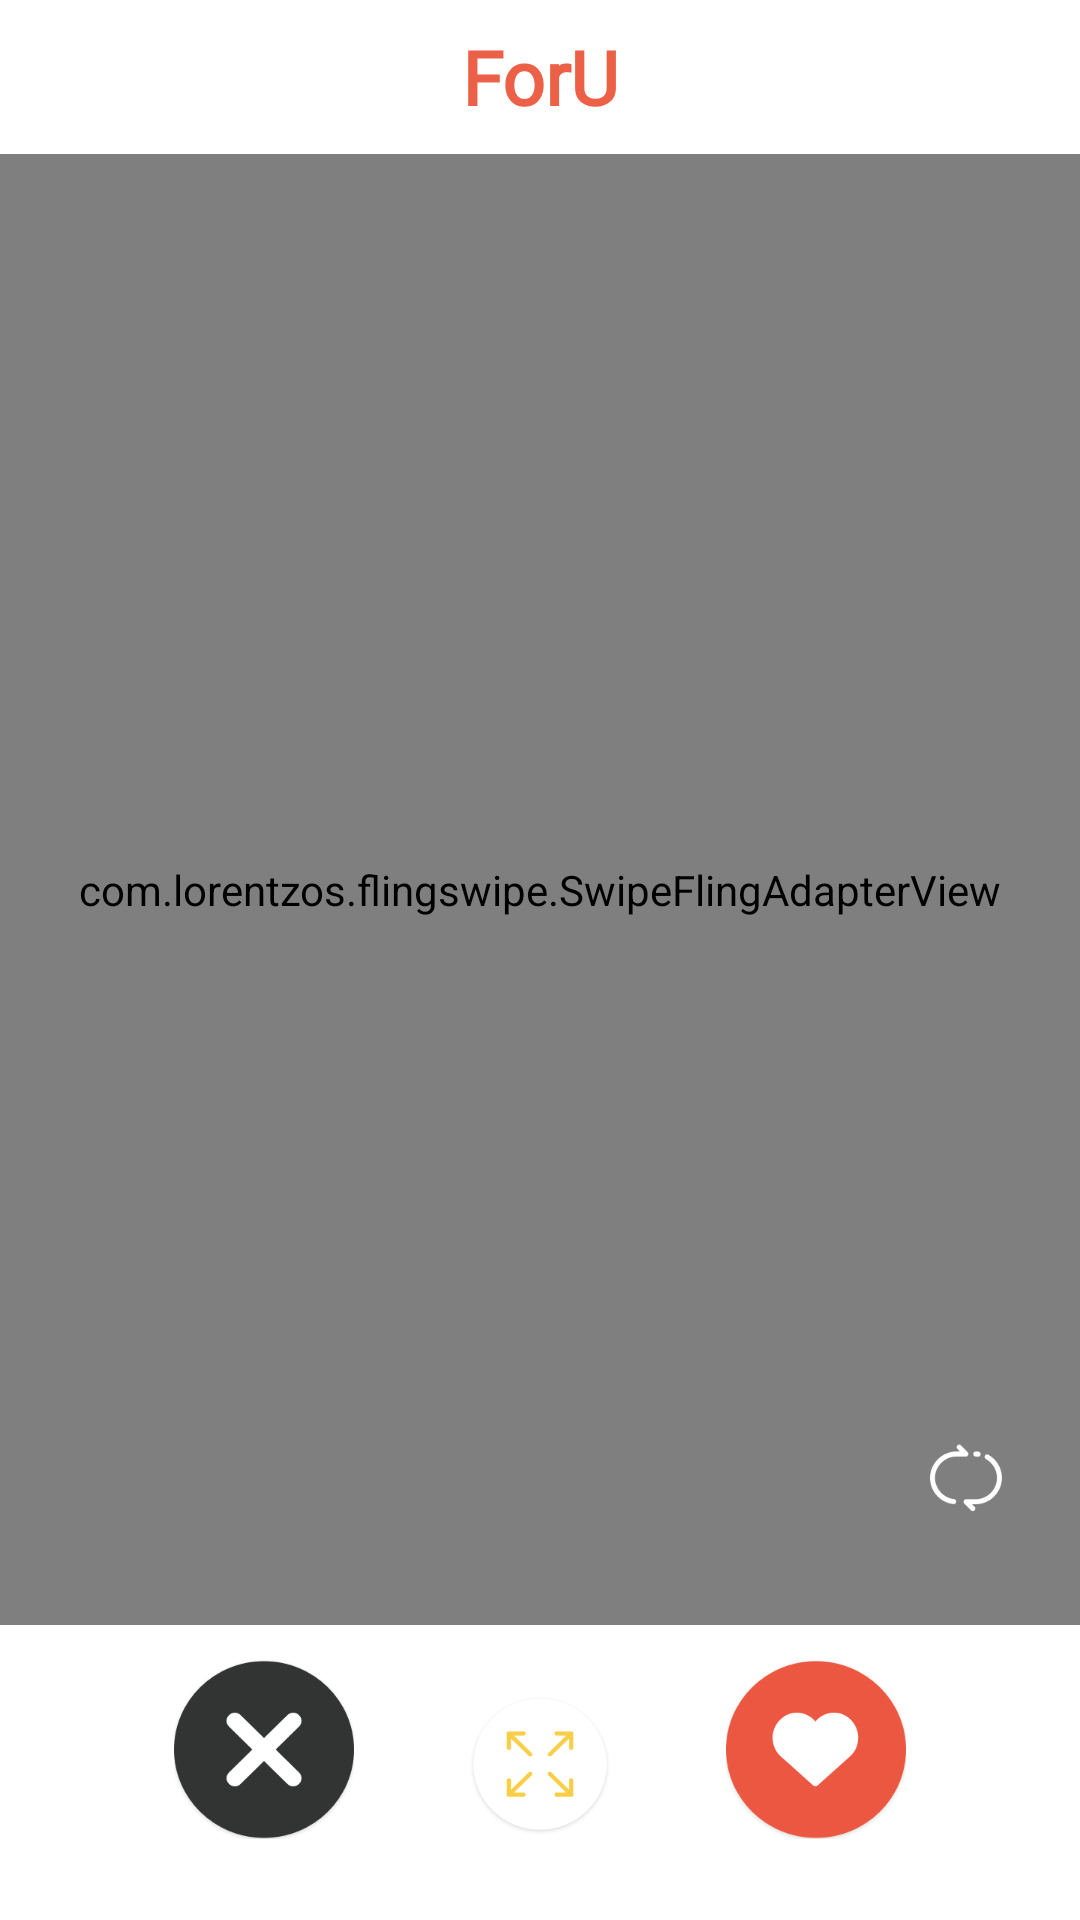

Where icons sit on this 1080*1920 app screen, as BBox(x1, y1, x2, y2):
cycle: BBox(930, 1444, 1002, 1511)
dislike: BBox(174, 1661, 354, 1839)
like: BBox(726, 1661, 906, 1839)
